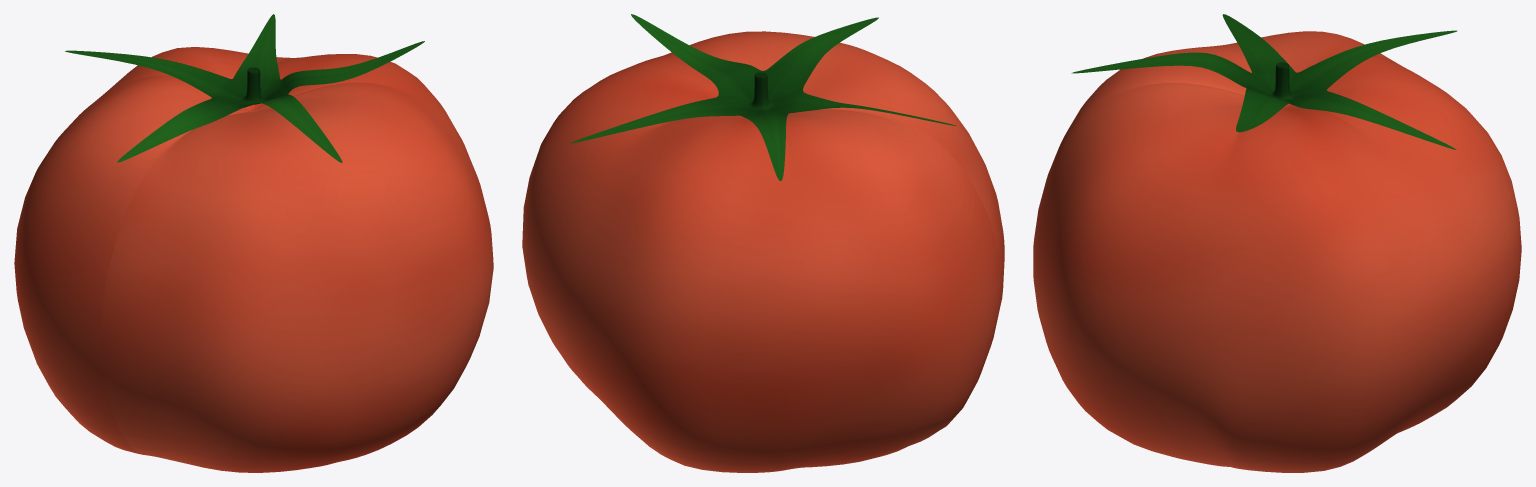
File: tomato.glb
3 renders of one model, left to right at view 1: azimuth 30°, elevation 25°; view 2: azimuth 150°, elevation 25°; view 3: azimuth 270°, elevation 25°, orthographic. The views are drawn at different scales.
Visible parts, largest first — view 1: tomato, tomato.leaf; view 2: tomato, tomato.leaf; view 3: tomato, tomato.leaf.
Part boxes in pixels (bbox=[...]): tomato: bbox=[14, 47, 493, 472]; tomato.leaf: bbox=[65, 14, 424, 162]; tomato: bbox=[522, 31, 1004, 472]; tomato.leaf: bbox=[570, 14, 956, 181]; tomato: bbox=[1033, 31, 1521, 472]; tomato.leaf: bbox=[1071, 14, 1457, 149].
Bounding box in the file's own units: 0.076 × 0.0609 × 0.0749.
Materials: 1 (1 with a texture image).
